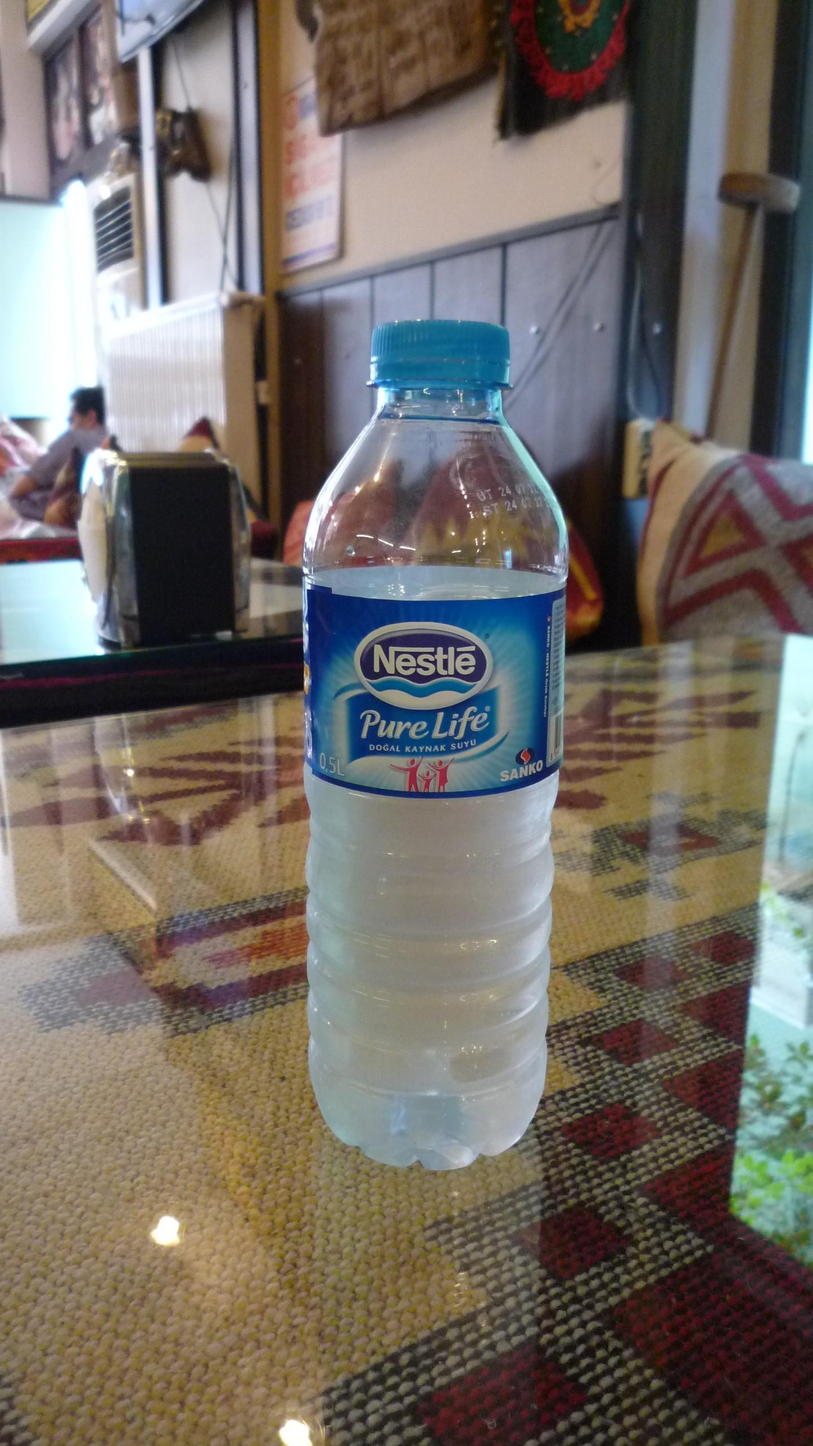plastic: (299, 323, 571, 1177)
